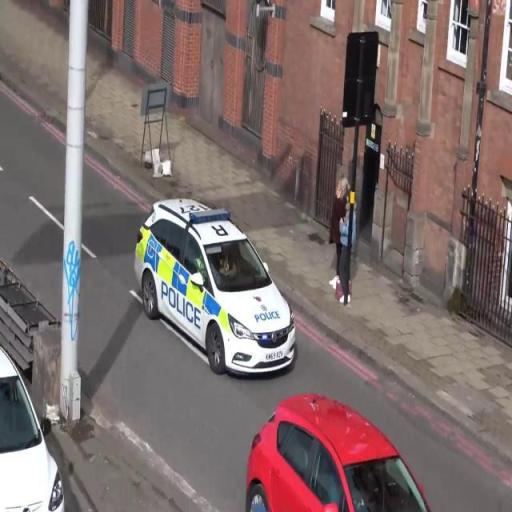Ambulance: (134, 196, 300, 376)
